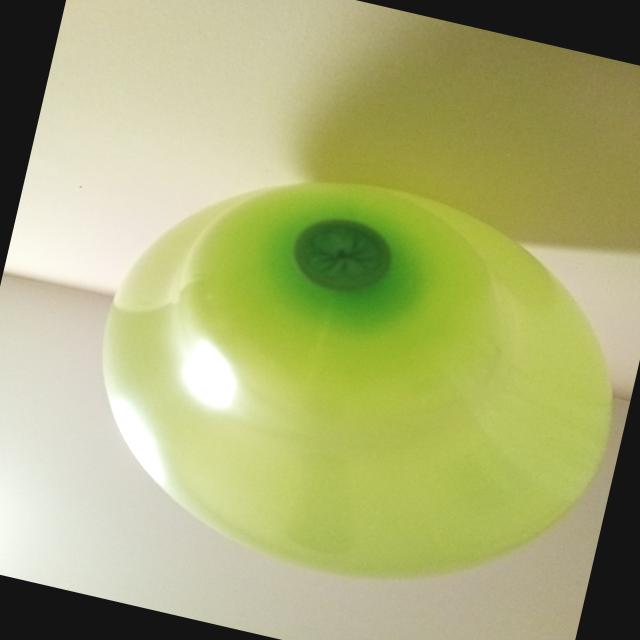balloon: (103, 183, 611, 576)
